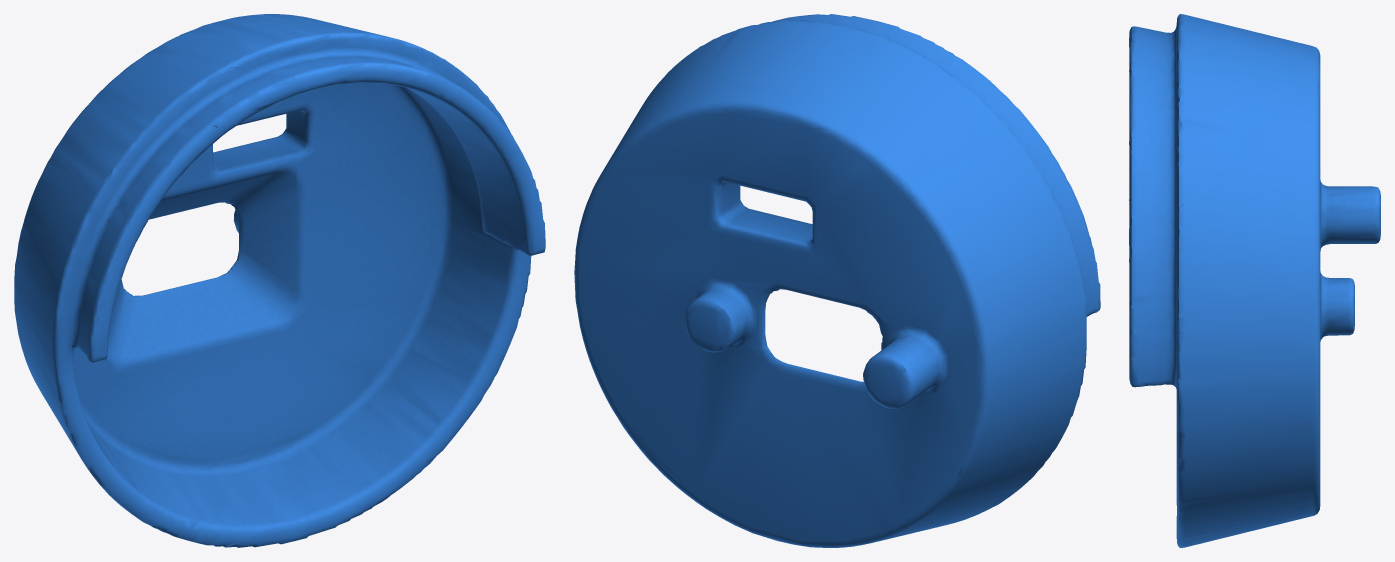
Rendered from left_wrist.obj.
The picture shows the model from 3 angles, left to right: view 1: azimuth 30°, elevation 25°; view 2: azimuth 150°, elevation 25°; view 3: azimuth 270°, elevation 25°; orthographic projection. The views are drawn at different scales.
Parts seen in each view (by area): view 1: left_wrist; view 2: left_wrist; view 3: left_wrist.
Part boxes in pixels (x1,y1,x2,y2): left_wrist: [14, 14, 545, 547]; left_wrist: [574, 14, 1100, 547]; left_wrist: [1129, 14, 1380, 547].
Bounding box in the file's own units: 0.0516 × 0.0516 × 0.0243.
Materials: 1 (1 with a texture image).
